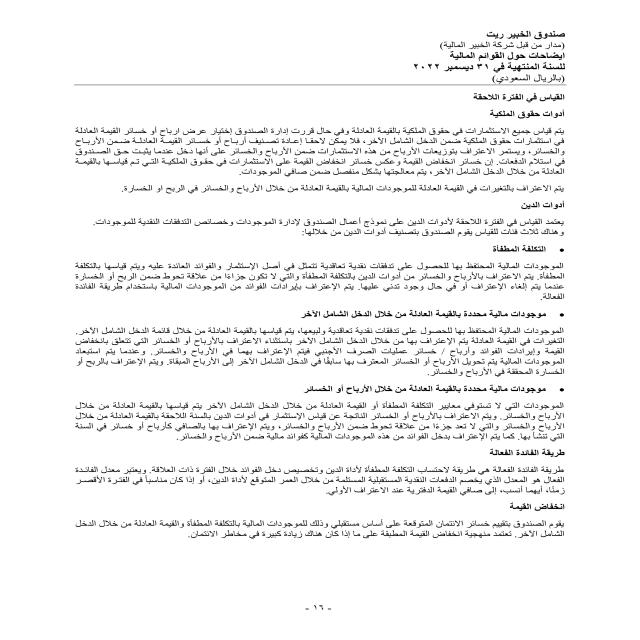notes: (439, 50, 568, 62)
text: (50, 87, 572, 553)
